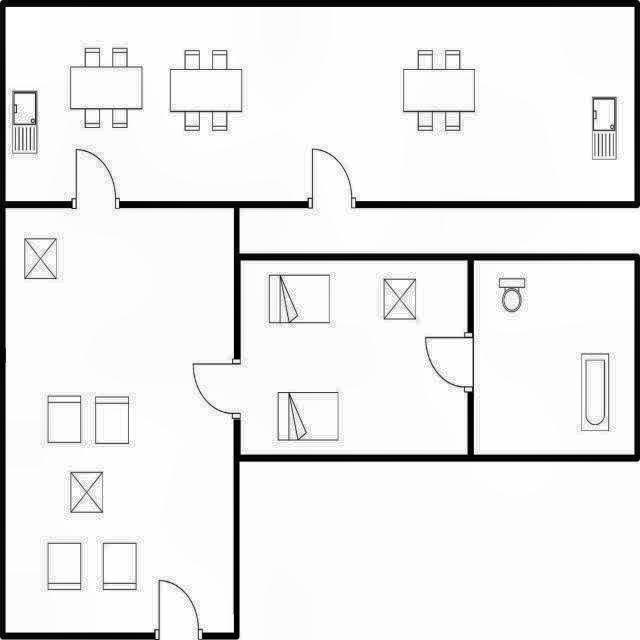room: (5, 8, 634, 201), (5, 209, 234, 633), (241, 261, 467, 454), (474, 261, 634, 453)
